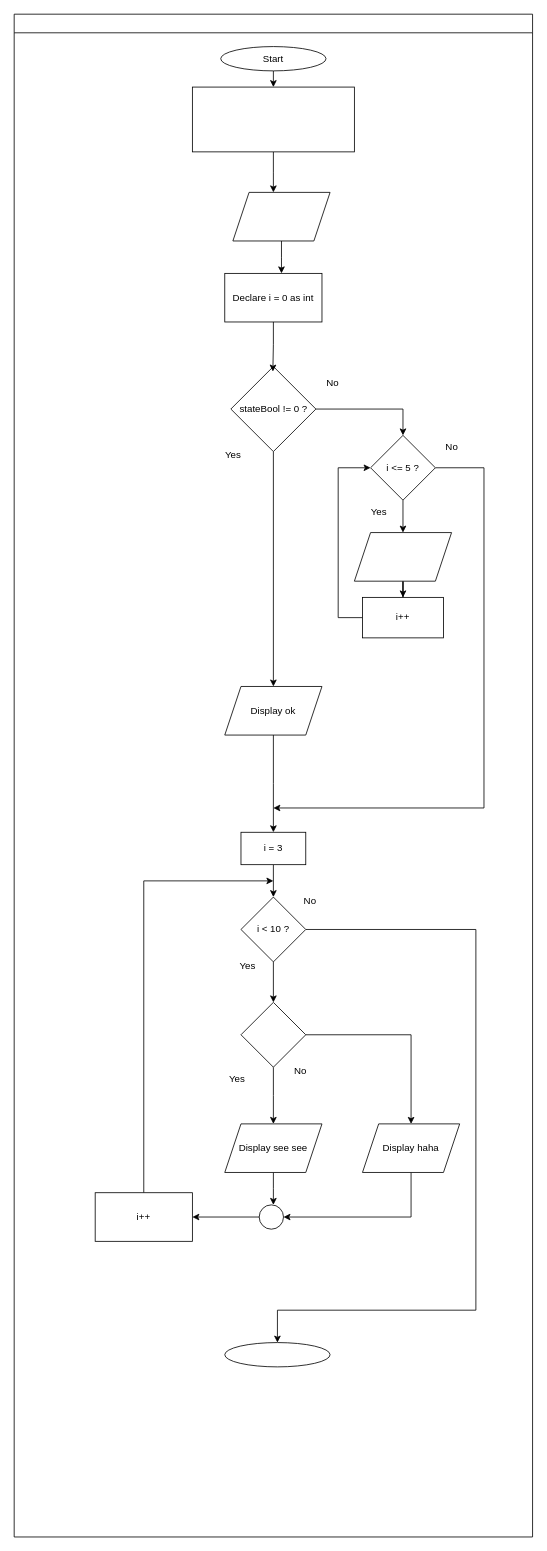
The diagram is 547 pixels wide and 1551 high, and some of its shapes have lost their labels. Here are the shapes that lost their labels. From the top down, the centre of each, then its label:
At pixel 273 119: "Declare a,b = 3 as float stateBool = 0 as bool".
At pixel 281 216: "Output stateBool".
At pixel 403 556: "Display not-okey".
At pixel 273 1034: "i % 2 == 1?".
At pixel 277 1354: "END".
